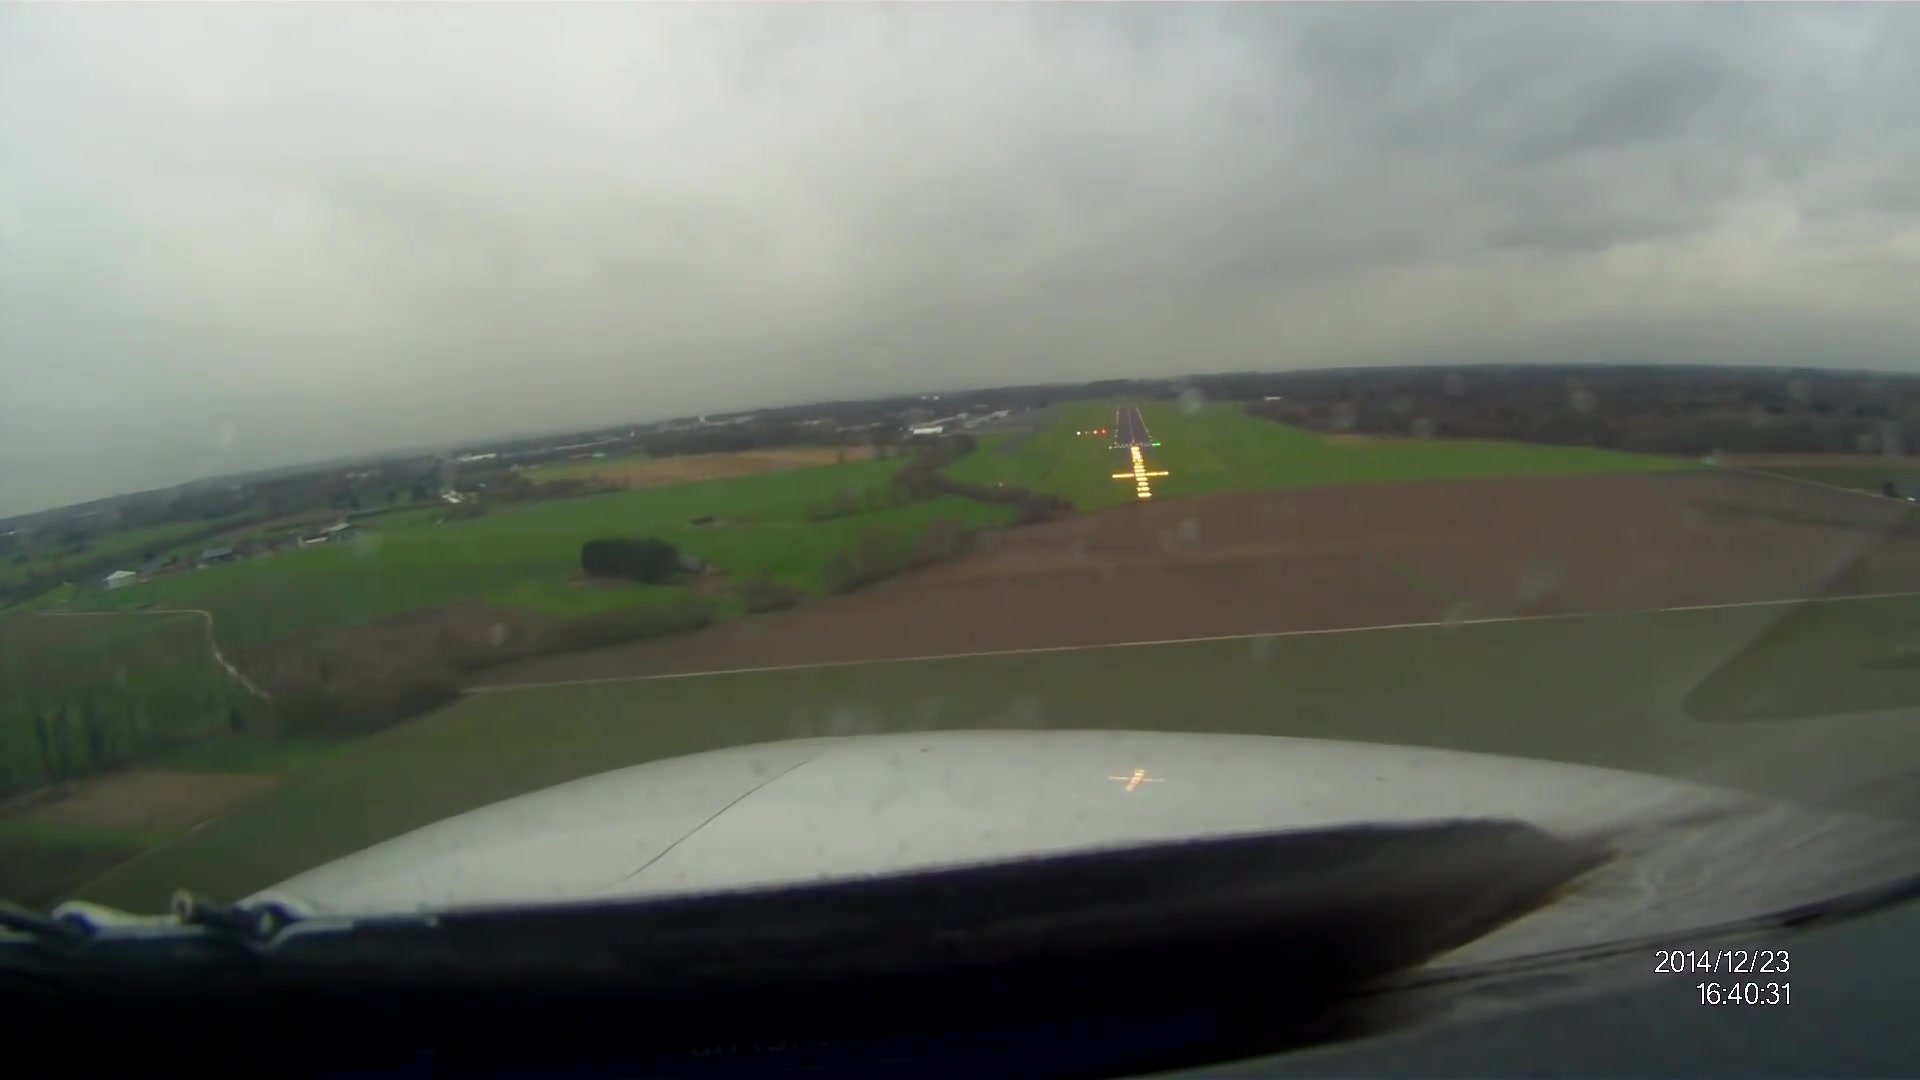entrance: (1117, 443, 1150, 448)
runway: (1112, 406, 1160, 450)
